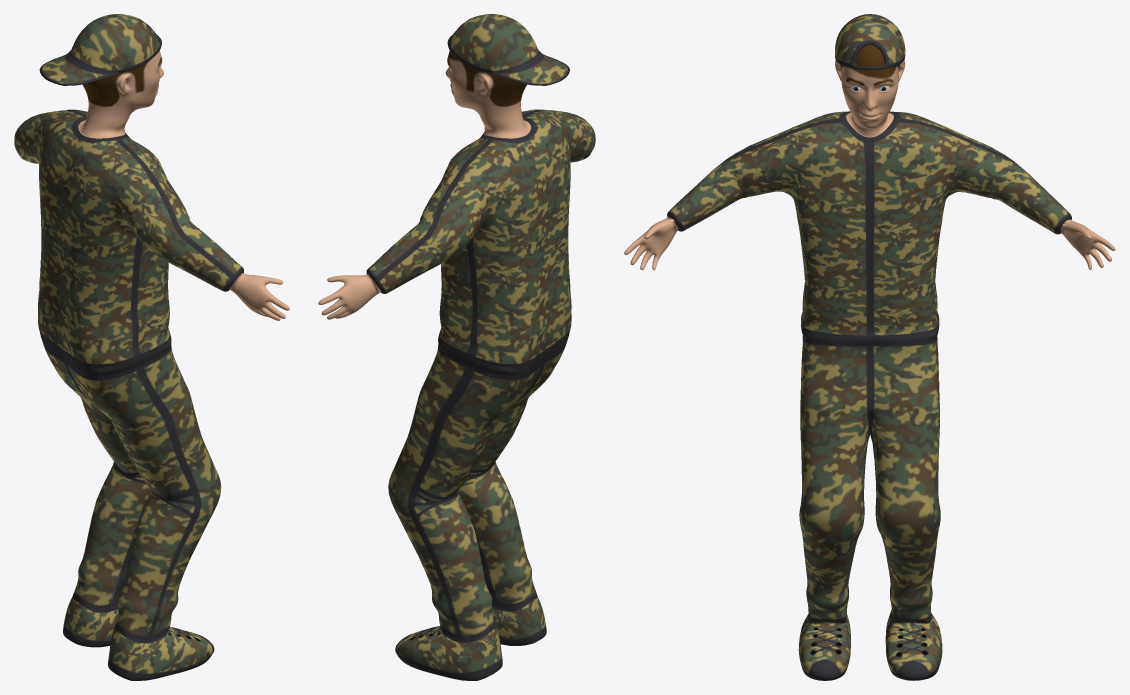
Rendered from SkinCamuflaje_PoseGrindar.fbx.
3 views of the same model, side by side, from view 1: azimuth 30°, elevation 25°; view 2: azimuth 150°, elevation 25°; view 3: azimuth 270°, elevation 25° (orthographic).
Visible parts, largest first — view 1: Cuerpo completo smooth.003; view 2: Cuerpo completo smooth.003; view 3: Cuerpo completo smooth.003.
Boxes of the visible parts, x1,y1,x2,y2 form: Cuerpo completo smooth.003: [14, 14, 289, 680]; Cuerpo completo smooth.003: [318, 14, 595, 680]; Cuerpo completo smooth.003: [624, 14, 1115, 680].
Size of the model in its own units: 40.73 by 165 by 116.
1 material, 1 textured.
